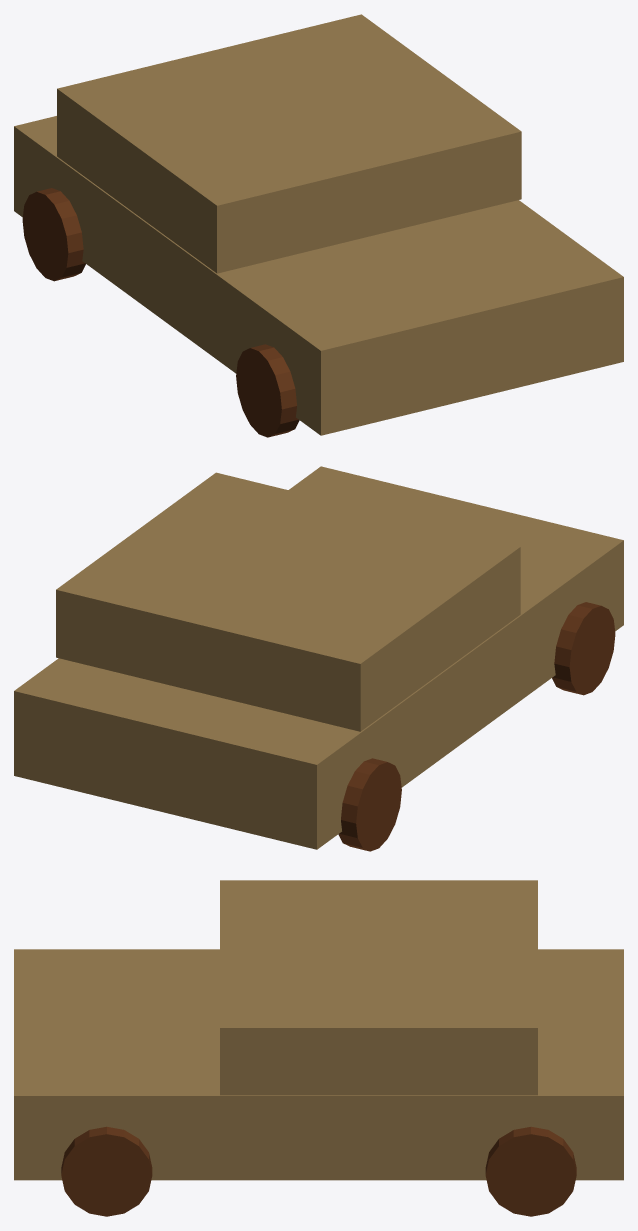
File: car-basic.glb
3 renders of one model, top to bottom at view 1: azimuth 30°, elevation 25°; view 2: azimuth 150°, elevation 25°; view 3: azimuth 270°, elevation 25°, orthographic.
Visible parts, largest first — view 1: Cube, Cylinder; view 2: Cube, Cylinder; view 3: Cube, Cylinder.
Part boxes in pixels (bbox=[...]): Cube: bbox=[14, 14, 623, 435]; Cylinder: bbox=[22, 188, 299, 437]; Cube: bbox=[14, 466, 623, 849]; Cylinder: bbox=[338, 602, 615, 851]; Cube: bbox=[14, 880, 623, 1180]; Cylinder: bbox=[61, 1126, 576, 1216].
Size of the model in its own units: 4.82 by 2.53 by 7.68.
